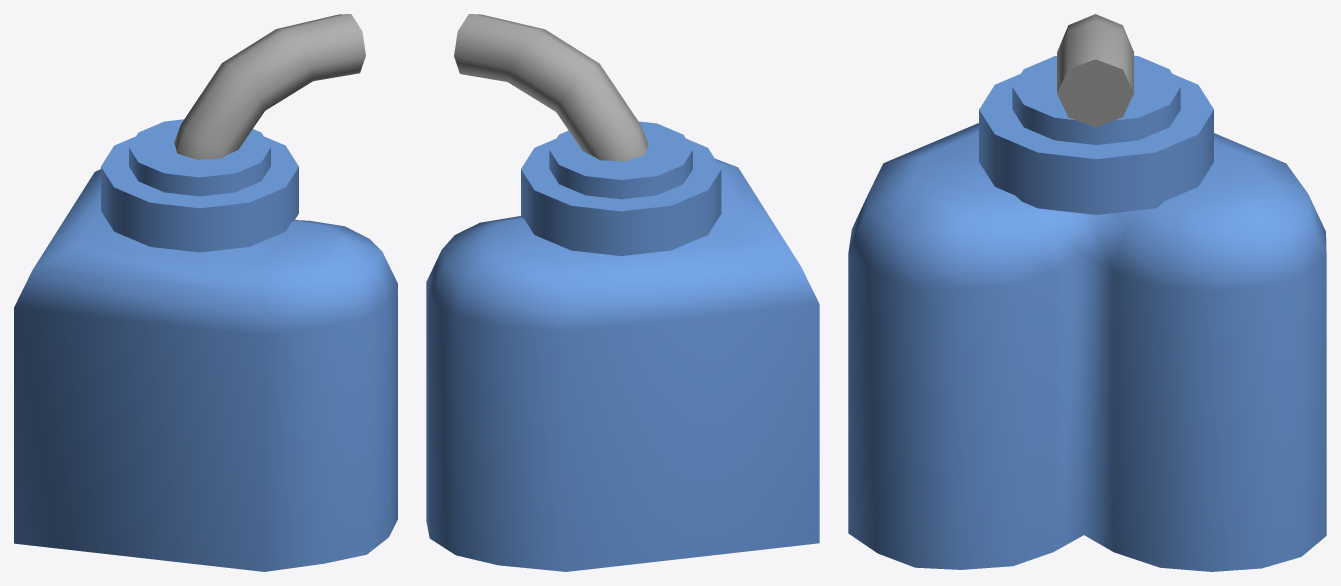
The model's file is model_BurbleHeartBomb.fbx.
The picture shows the model from 3 angles, left to right: view 1: azimuth 30°, elevation 25°; view 2: azimuth 150°, elevation 25°; view 3: azimuth 270°, elevation 25°; orthographic projection. The views are drawn at different scales.
Parts seen in each view (by area): view 1: model_BurbleHeartBomb; view 2: model_BurbleHeartBomb; view 3: model_BurbleHeartBomb.
Part boxes in pixels (x1=…): model_BurbleHeartBomb: x1=14, y1=14, x2=397, y2=571; model_BurbleHeartBomb: x1=426, y1=14, x2=819, y2=571; model_BurbleHeartBomb: x1=848, y1=14, x2=1326, y2=571.
Bounding box in the file's own units: 40.87 × 50.58 × 41.72.
